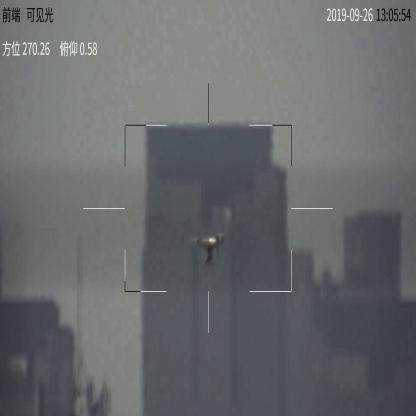uav: (194, 230, 226, 265)
